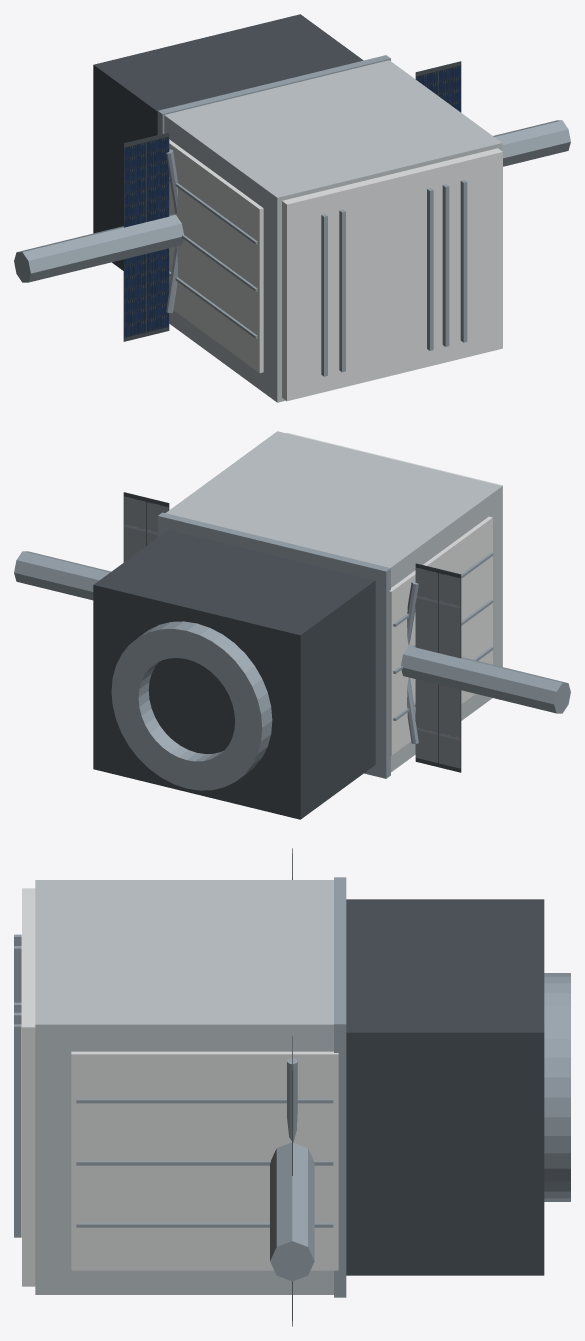
Rendered from ref-cubesat-12u-51287.glb.
The picture shows the model from 3 angles, top to bottom: view 1: azimuth 30°, elevation 25°; view 2: azimuth 150°, elevation 25°; view 3: azimuth 270°, elevation 25°; orthographic projection. The views are drawn at different scales.
Visible parts, largest first — view 1: Earth-facing deck, Payload module, Service module, Radiator face, Solar cell panel (×3), Array drive (×2), Deck heat pipe (×5), Module interface, Solar panel frame (×2); view 2: Service module, Payload module, Launch adapter ring, Rear array substrate (×4), Array drive (×2), Radiator face, Module interface, Solar panel frame (×2), Earth-facing deck; view 3: Service module, Payload module, Radiator face, Launch adapter ring, Array drive, Earth-facing deck, Module interface, Radiator seam (×3), Deck heat pipe, Array yoke.
Boxes of the visible parts, x1,y1,x2,y2 form: Earth-facing deck: (282,148,502,401); Payload module: (164,60,502,402); Service module: (93,14,363,270); Radiator face: (169,139,263,372); Solar cell panel (×3): (124,65,460,337); Array drive (×2): (14,120,570,282); Deck heat pipe (×5): (321,180,467,376); Module interface: (157,55,390,134); Solar panel frame (×2): (123,132,169,341); Service module: (93,530,375,819); Payload module: (165,431,502,772); Launch adapter ring: (111,621,272,790); Rear array substrate (×4): (124,496,460,768); Array drive (×2): (14,551,570,713); Radiator face: (389,516,492,755); Module interface: (157,512,390,778); Solar panel frame (×2): (415,563,461,772); Earth-facing deck: (286,432,502,666); Service module: (346,899,544,1275); Payload module: (35,880,333,1294); Radiator face: (71,1051,338,1270); Launch adapter ring: (544,973,570,1201); Array drive: (270,1142,314,1281); Earth-facing deck: (22,888,35,1286); Module interface: (334,877,346,1297); Radiator seam (×3): (76,1098,333,1227); Deck heat pipe: (14,1024,21,1237); Array yoke: (287,1058,297,1142).
Bounding box in the file's own units: 0.48 × 0.1761 × 0.3251.
6 materials, 1 textured.
